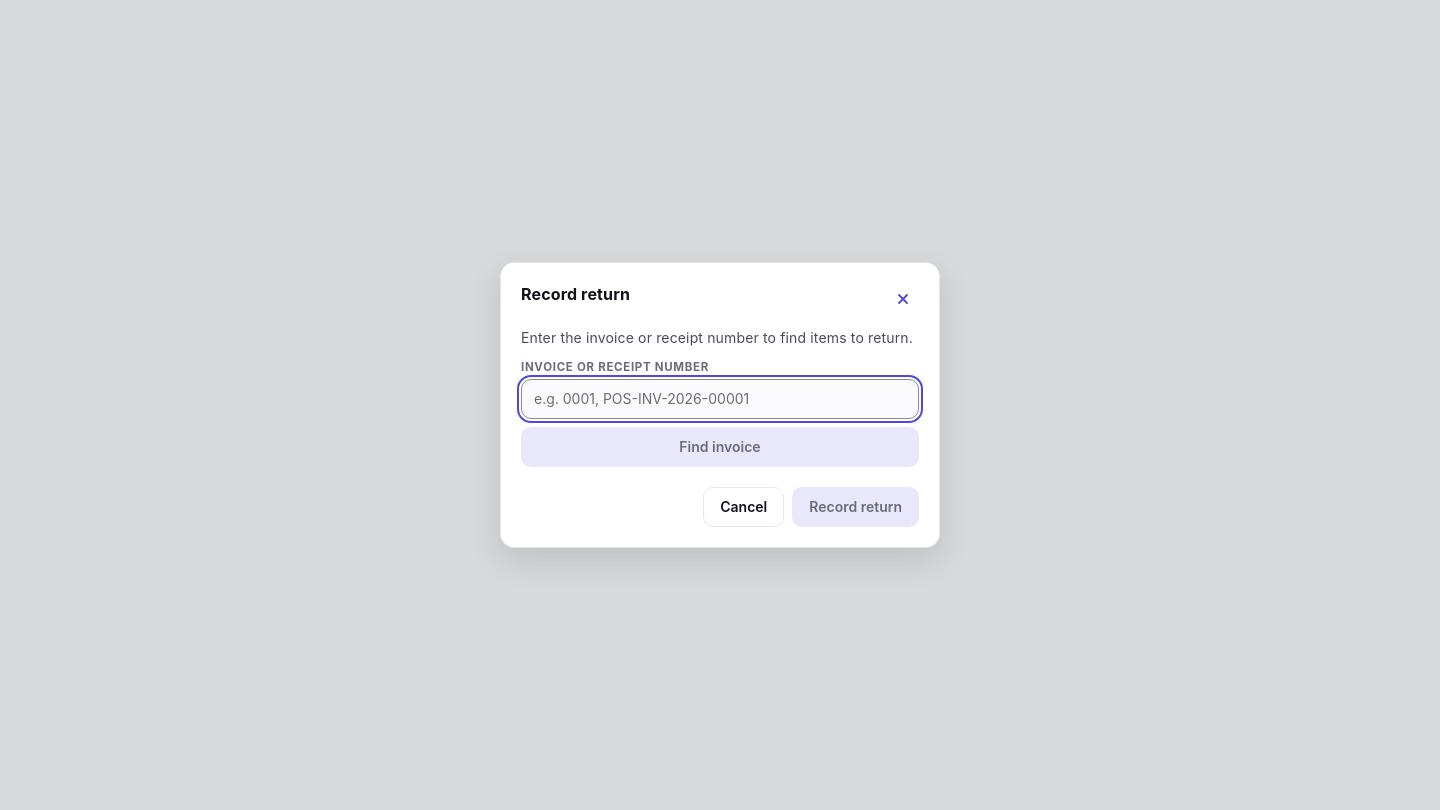
Test: SalesReturnDialog › standalone mode allows finding invoice by number
The width and height of the screenshot is (1440, 810).
Type "#0001" into the field labelled "Invoice or Receipt number" at (720, 399), box [522, 380, 918, 418]
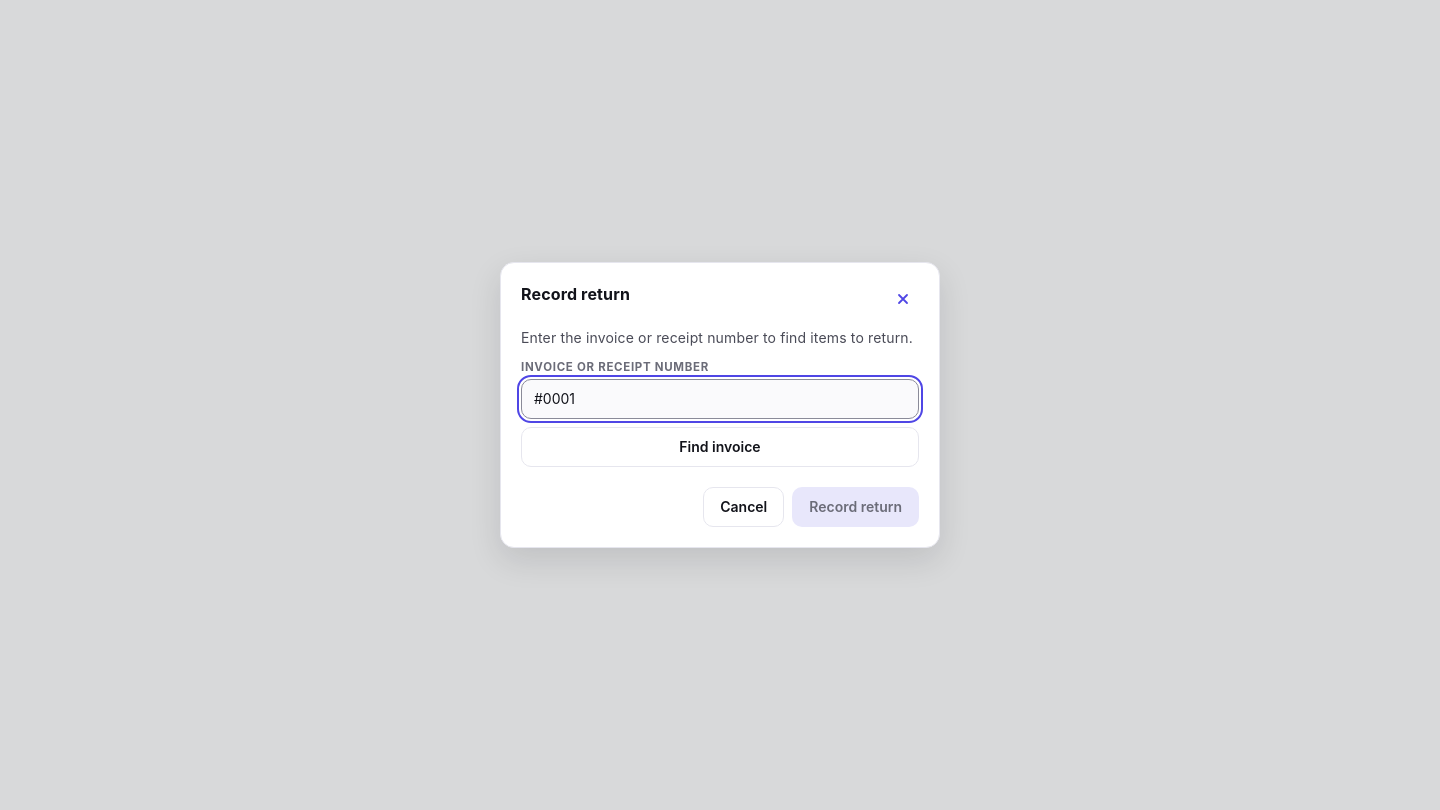
Click the button "Find invoice" at (720, 447), box [521, 427, 919, 467]
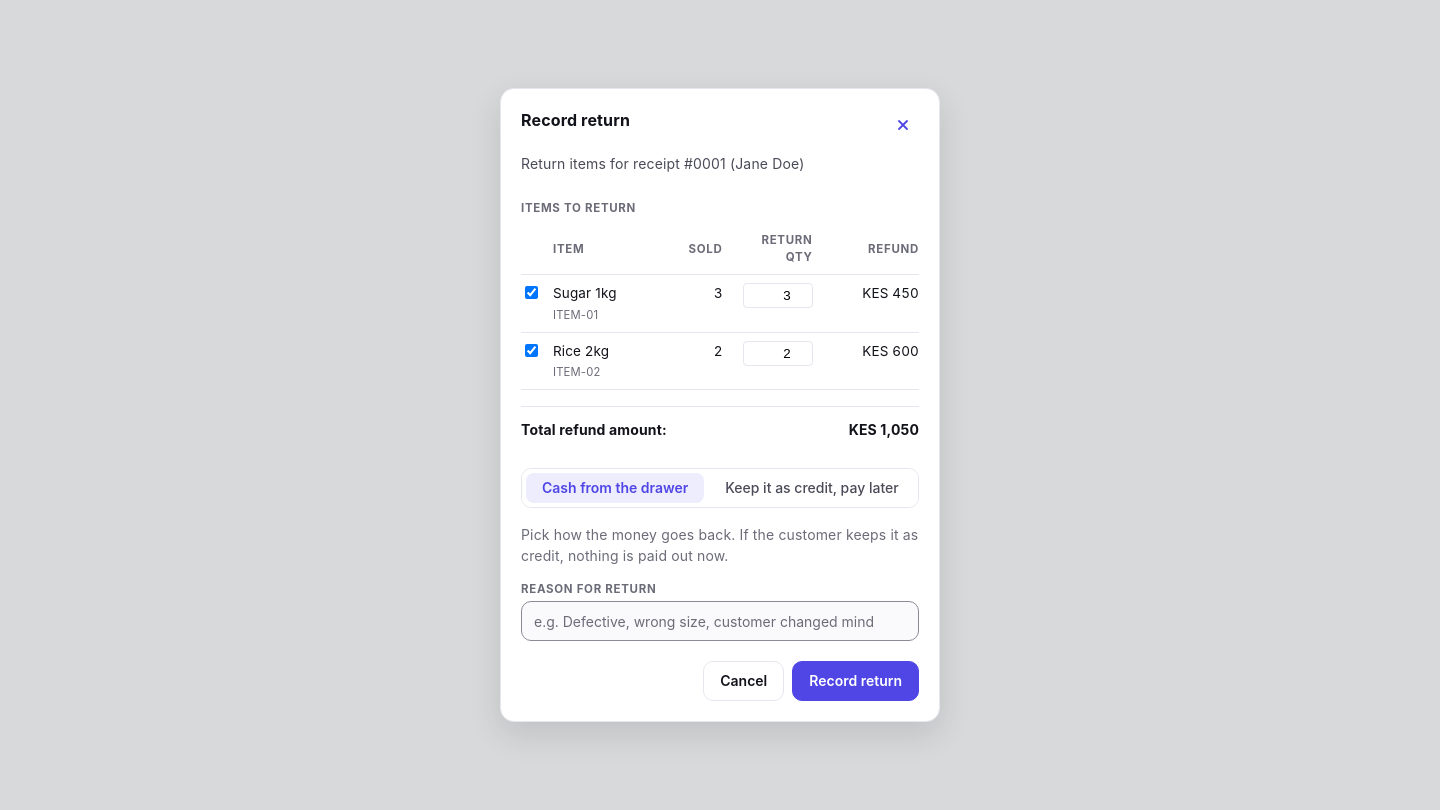
Result: the text "Sugar 1kg" is shown at [553, 285, 617, 301]
